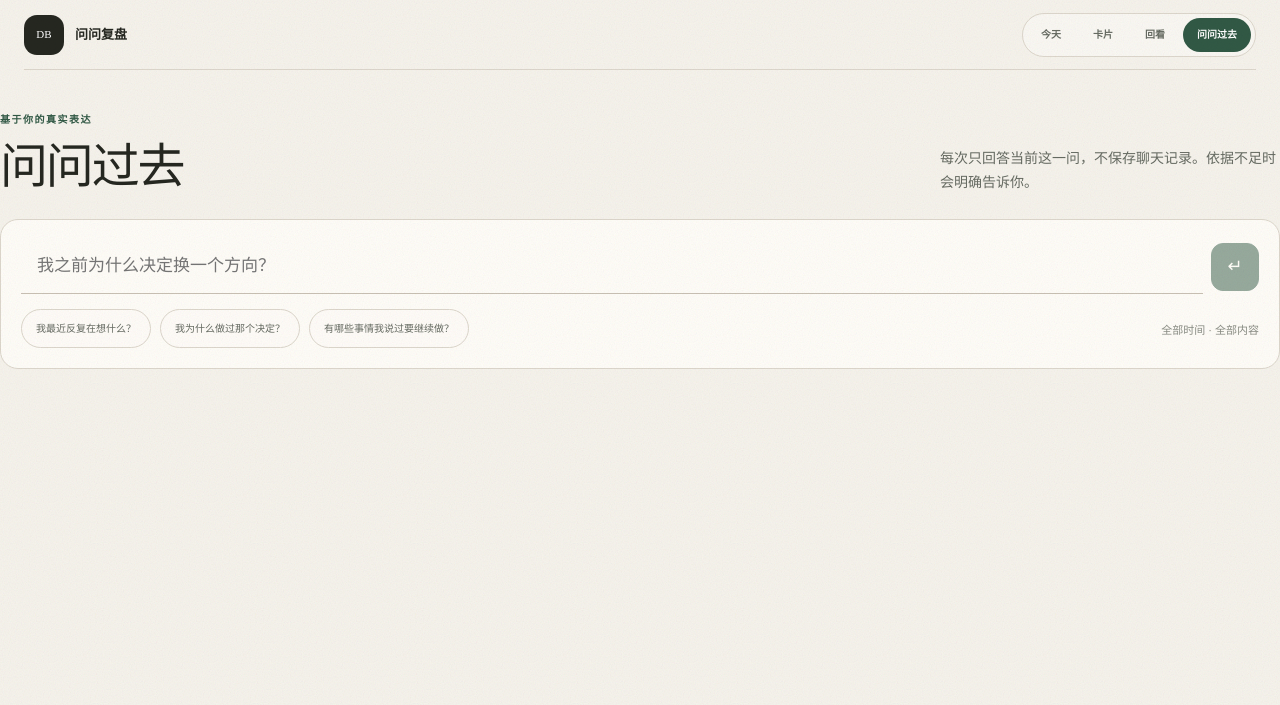
Test: DailyReflectionQuery › uses the full evidence timeline only when an answer has multiple sources
Step 1. Type "这个选择是怎样确定下来的？" into the field named "你想问什么" → (612, 267), box [21, 240, 1203, 294]
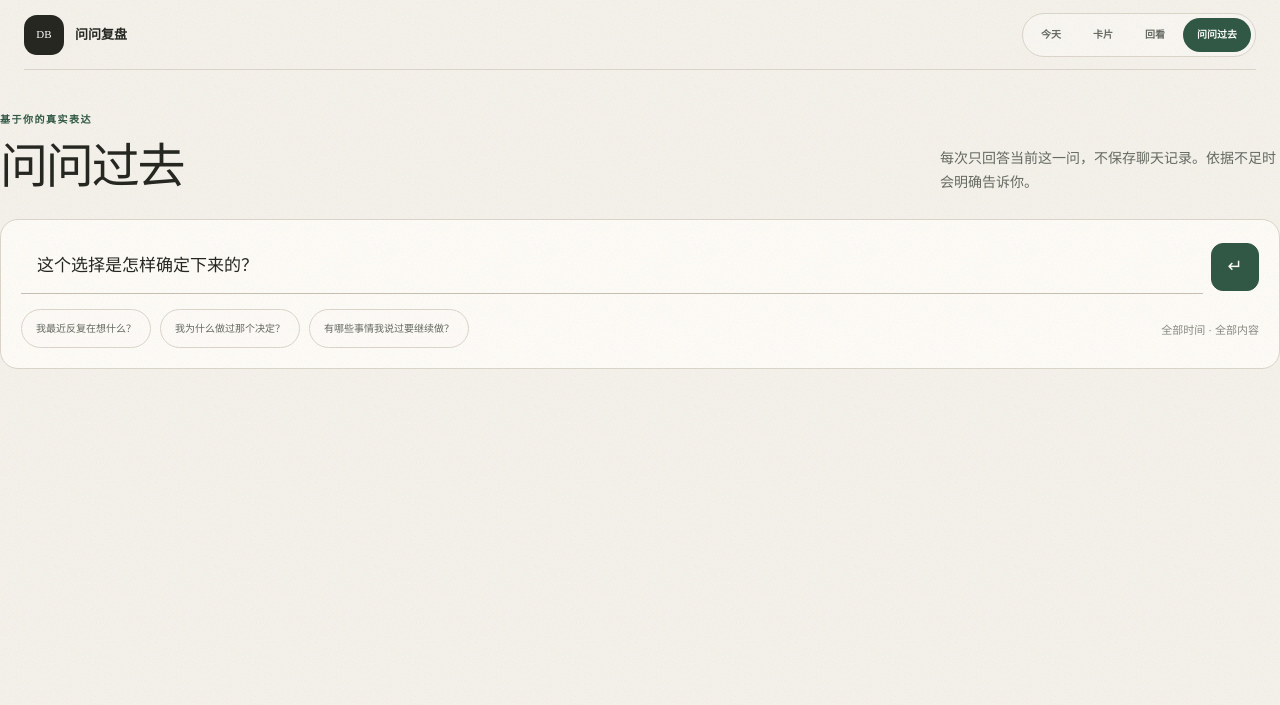
Step 2. Click the button named "查找" → (1235, 267), box [1211, 243, 1259, 291]
(page scrolled)
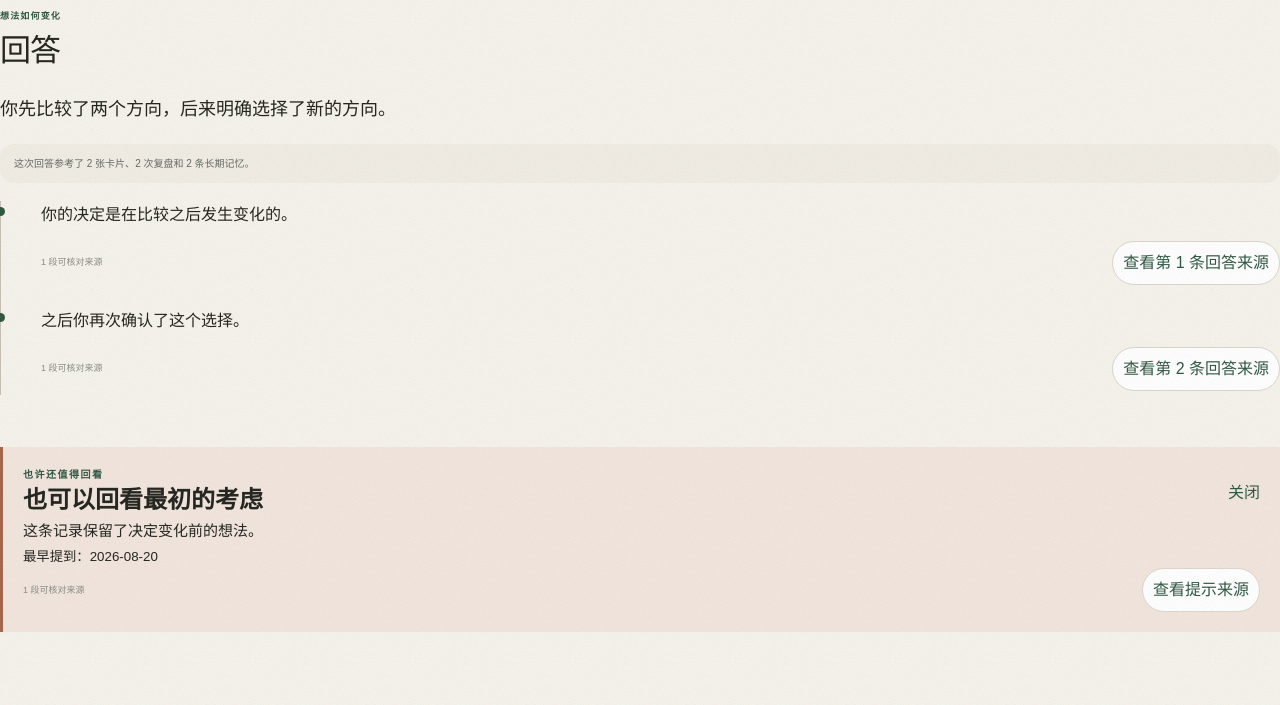
Expected: the button "查看第 1 条回答来源" is shown, [1112, 241, 1279, 285]
Expected: the button "查看第 2 条回答来源" is shown
Step 3. Click the button "查看第 2 条回答来源" → (1196, 369), box [1112, 347, 1279, 391]
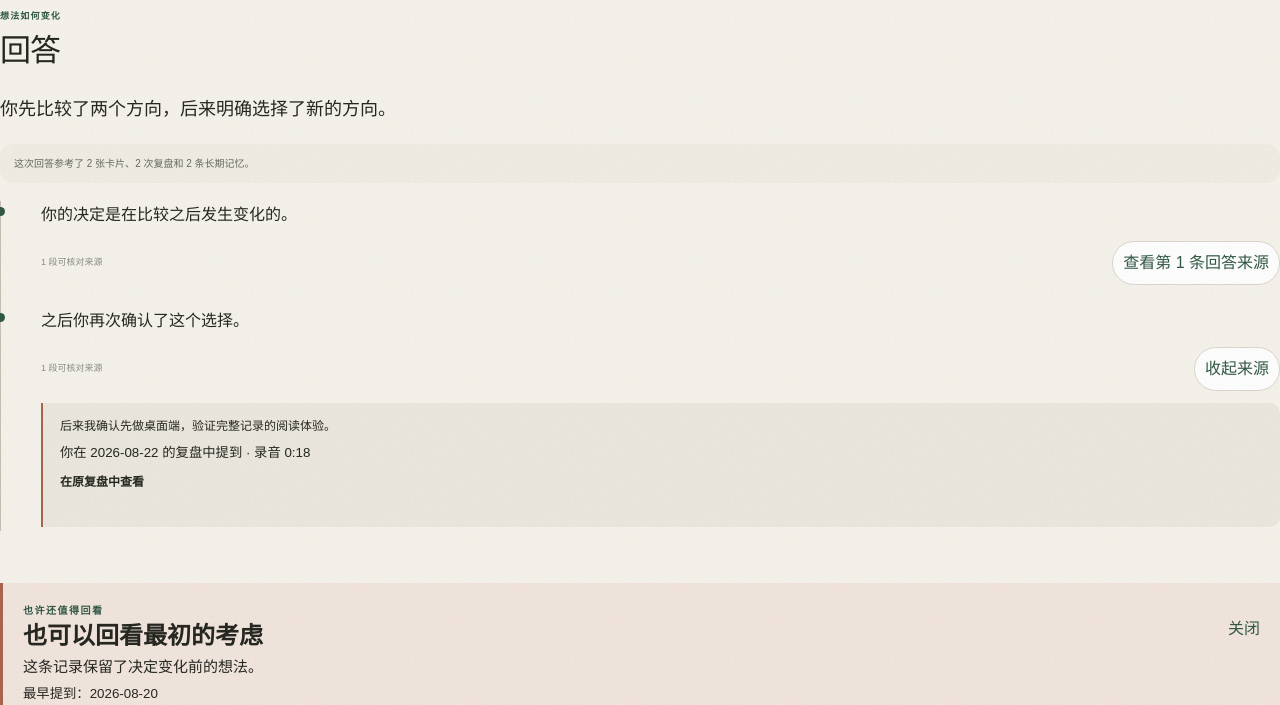
Expected: the text "后来我确认先做桌面端，验证完整记录的阅读体验。" is shown, [60, 419, 336, 433]
